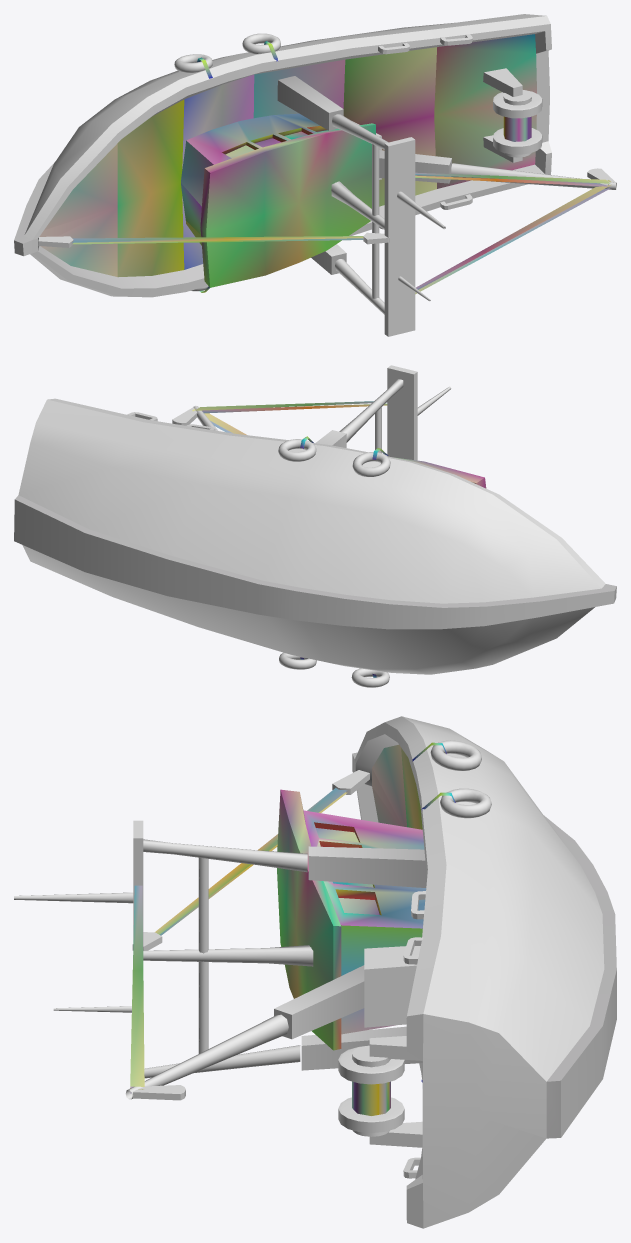
The model's file is Boat_Village_Fishing_highres.glb.
The picture shows the model from 3 angles, top to bottom: view 1: azimuth 30°, elevation 25°; view 2: azimuth 150°, elevation 25°; view 3: azimuth 270°, elevation 25°; orthographic projection. The views are drawn at different scales.
Parts seen in each view (by area): view 1: MeshNode_0, MeshNode_2, MeshNode_1; view 2: MeshNode_2, MeshNode_1, MeshNode_0; view 3: MeshNode_2, MeshNode_1, MeshNode_0.
Boxes of the visible parts, bbox=[...] form: MeshNode_0: bbox=[39, 34, 611, 294]; MeshNode_2: bbox=[14, 14, 551, 297]; MeshNode_1: bbox=[38, 33, 616, 336]; MeshNode_2: bbox=[14, 398, 616, 674]; MeshNode_1: bbox=[127, 365, 451, 687]; MeshNode_0: bbox=[192, 401, 486, 677]; MeshNode_2: bbox=[274, 716, 616, 1228]; MeshNode_1: bbox=[14, 740, 491, 1178]; MeshNode_0: bbox=[130, 742, 455, 1115].
Bounding box in the file's own units: 59.16 × 23.55 × 41.46.
